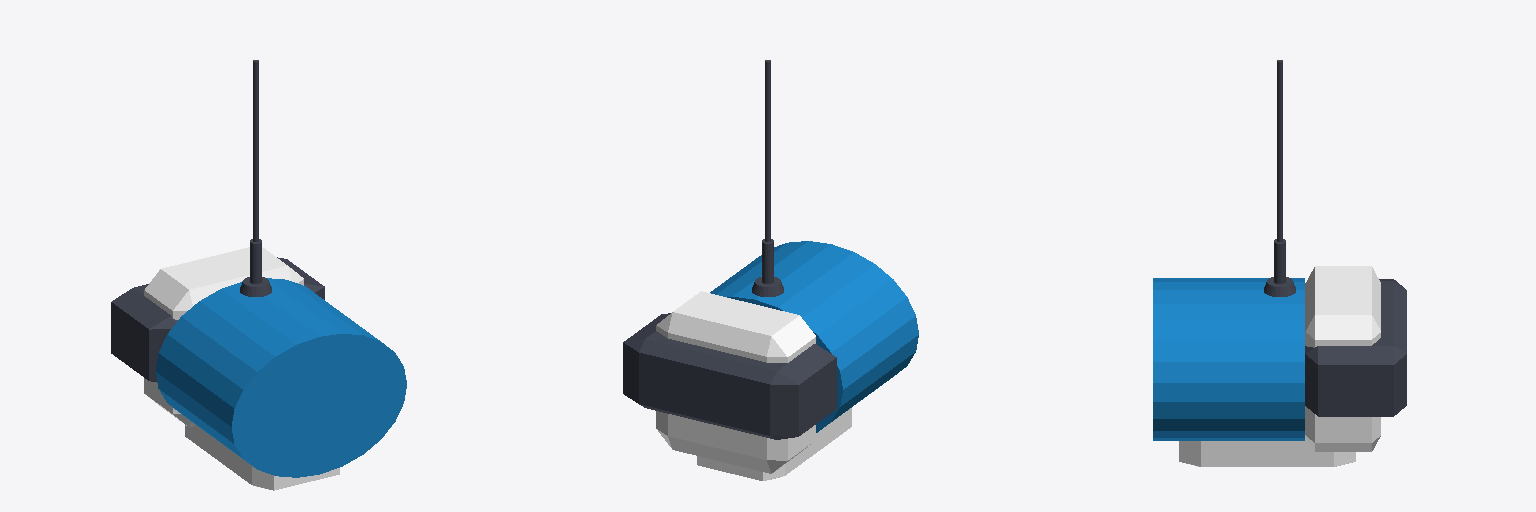
Rendered from BittySpaceTruck.obj.
3 views of the same model, side by side, from view 1: azimuth 30°, elevation 25°; view 2: azimuth 150°, elevation 25°; view 3: azimuth 270°, elevation 25° (orthographic).
Bounding box in the file's own units: 0.8 × 1.7 × 1.